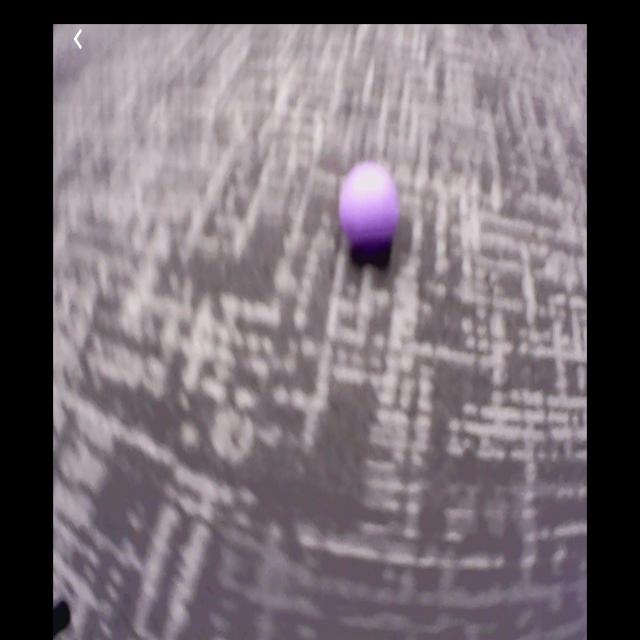ball: (341, 162, 398, 252)
